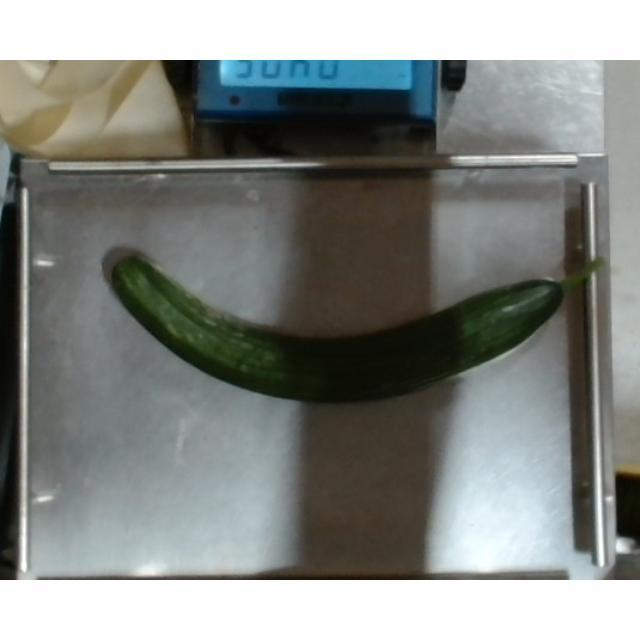cucumber: (98, 248, 600, 400)
